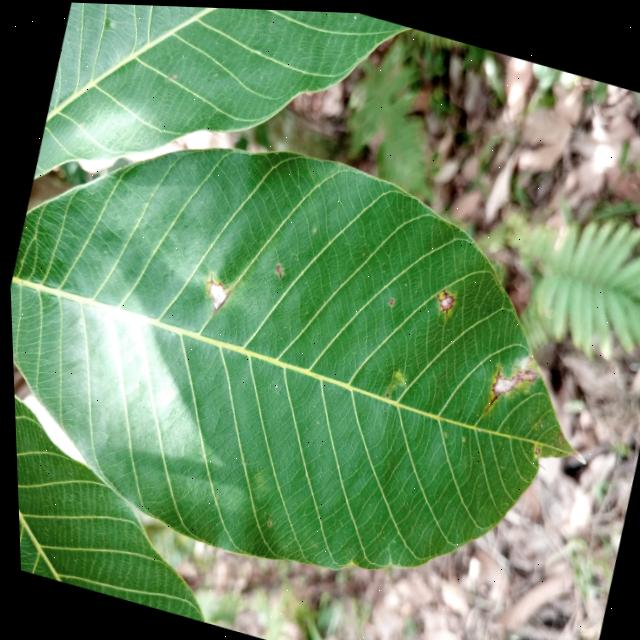Corynespora: (427, 284, 454, 318), (477, 384, 496, 414), (382, 390, 385, 394)
Leaf-Blight: (202, 281, 224, 309), (488, 371, 510, 396)
